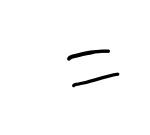eqv: (67, 49, 119, 87)
